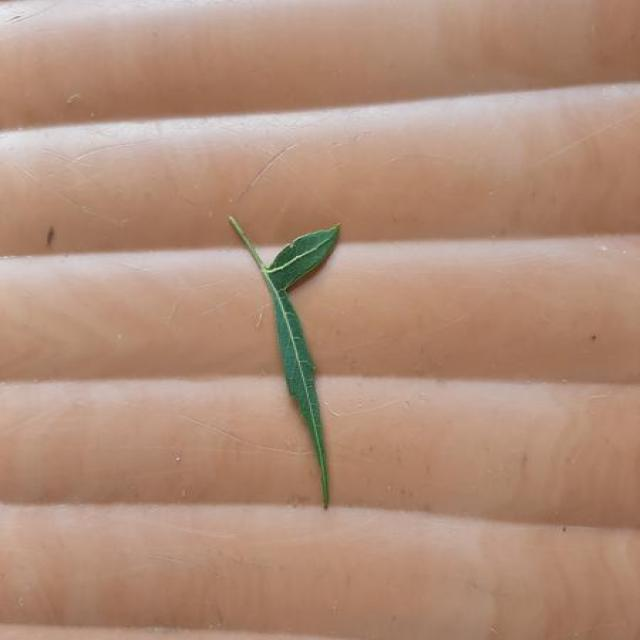neem: (228, 216, 340, 474)
